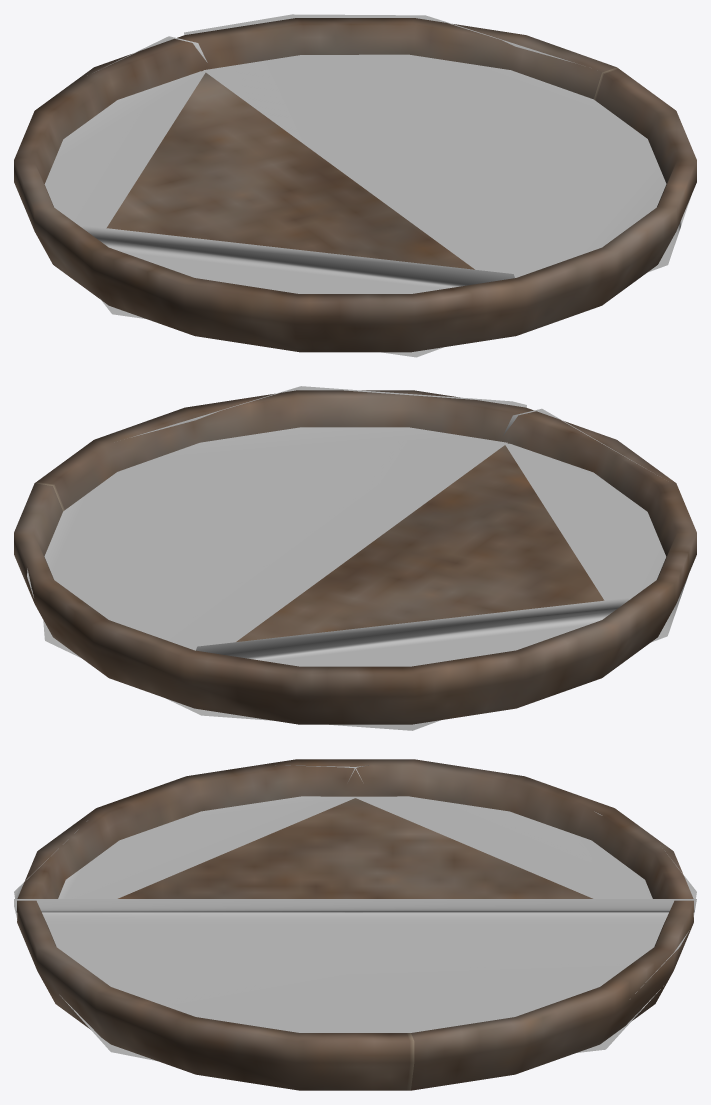
Rendered from SM_Plate_01.gltf.
3 views of the same model, one above another, from view 1: azimuth 30°, elevation 25°; view 2: azimuth 150°, elevation 25°; view 3: azimuth 270°, elevation 25° (orthographic).
Parts seen in each view (by area): view 1: SM_Plate_01_LOD0, SM_Plate_01_ConvexHulls; view 2: SM_Plate_01_LOD0, SM_Plate_01_ConvexHulls; view 3: SM_Plate_01_LOD0, SM_Plate_01_ConvexHulls.
Part boxes in pixels (x1,y1,x2,y2): SM_Plate_01_LOD0: (14, 18, 696, 352); SM_Plate_01_ConvexHulls: (44, 14, 691, 357); SM_Plate_01_LOD0: (14, 390, 696, 724); SM_Plate_01_ConvexHulls: (27, 386, 688, 730); SM_Plate_01_LOD0: (17, 759, 693, 1090); SM_Plate_01_ConvexHulls: (14, 765, 696, 1061).
Size of what is drawn, in the model's own units: 0.169 by 0.0174 by 0.1731.
2 materials, 1 textured.
